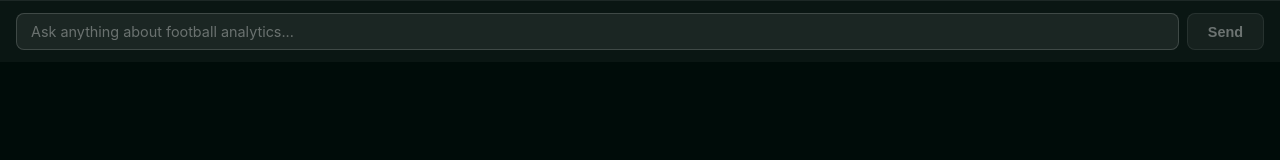
Test: ChatInput › submits on button click and clears input
The width and height of the screenshot is (1280, 160).
Step 1. Type "what is xG" into the field named "Query input" → (597, 32), box [16,13,1179,50]
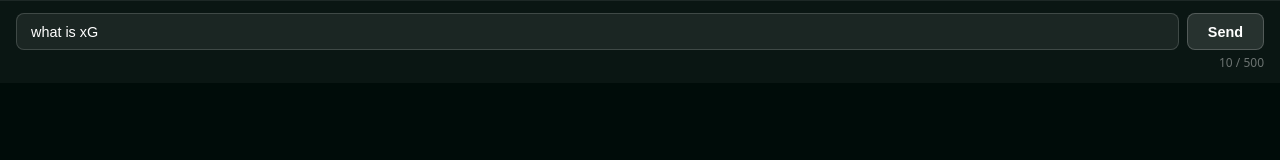
Step 2. Click the button with aria-label "Send query" → click(1225, 32), box [1187,13,1264,50]
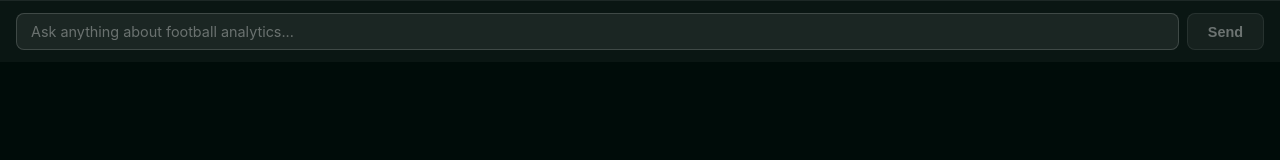
Now the field named "Query input" is empty, box [16,13,1179,50]
